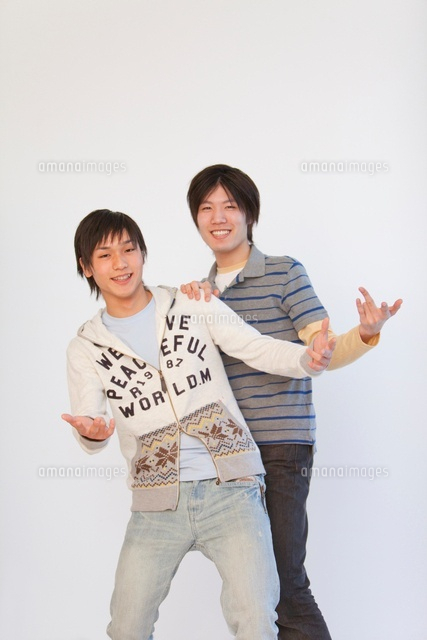face: (79, 228, 153, 298), (196, 183, 253, 252)
hand: (355, 285, 404, 335), (305, 317, 337, 371), (59, 411, 116, 441), (180, 278, 221, 302)
